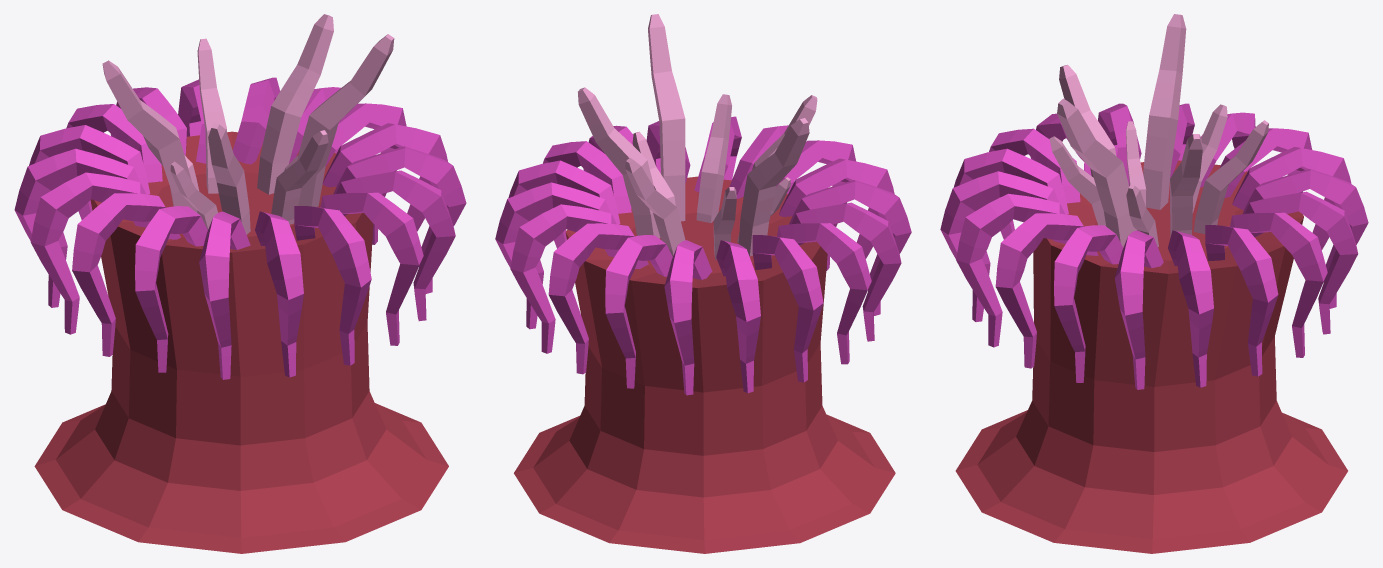
File: anemona.fbx
The picture shows the model from 3 angles, left to right: view 1: azimuth 30°, elevation 25°; view 2: azimuth 150°, elevation 25°; view 3: azimuth 270°, elevation 25°; orthographic projection. The views are drawn at different scales.
Visible parts, largest first — view 1: Plane.001; view 2: Plane.001; view 3: Plane.001.
Boxes of the visible parts, <box> form: Plane.001: <box>14,14,466,553</box>; Plane.001: <box>495,14,911,553</box>; Plane.001: <box>940,14,1368,553</box>.
Bounding box in the file's own units: 313 × 340 × 316.
